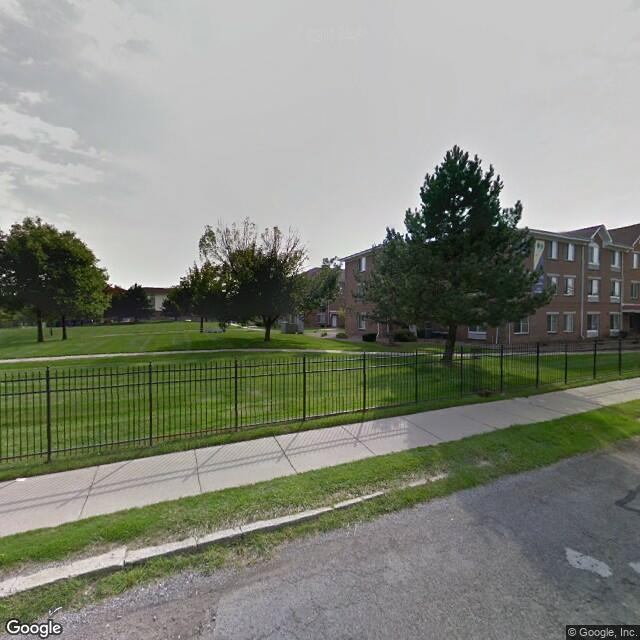litter: (45, 606, 67, 617), (15, 477, 26, 483)
